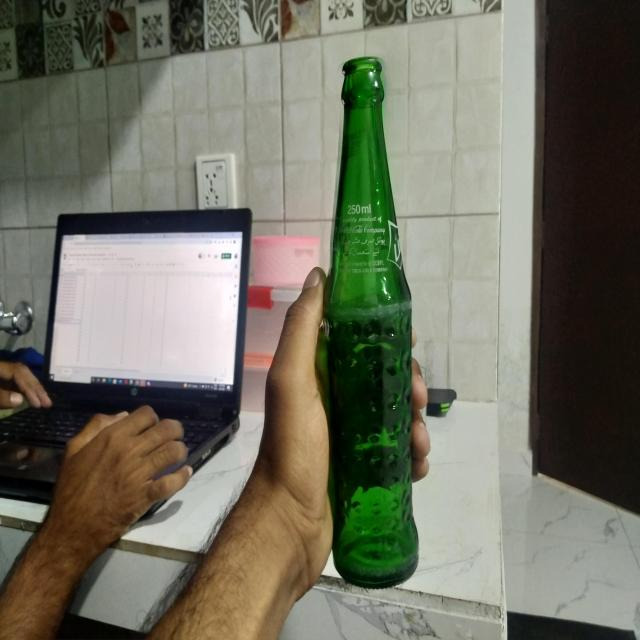bottle-glass: (323, 56, 422, 587)
